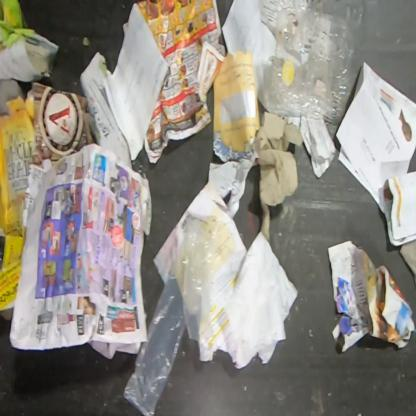cardboard: (24, 82, 95, 170), (0, 80, 34, 237)
rigid_plastic: (257, 0, 356, 126)
soft_plastic: (122, 220, 216, 415)
